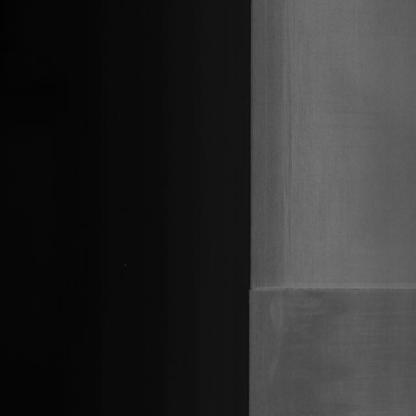welding_line: (244, 273, 412, 307)
